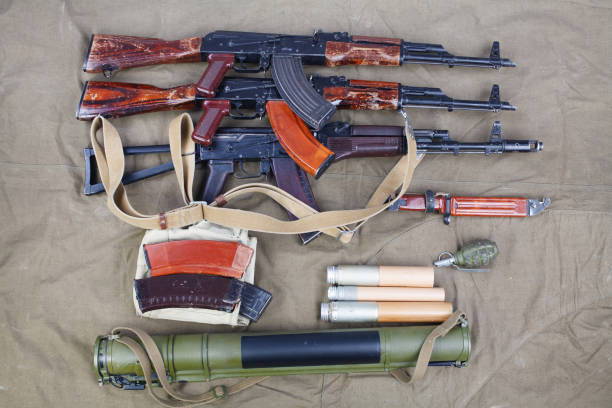e1: (435, 240, 500, 275)
